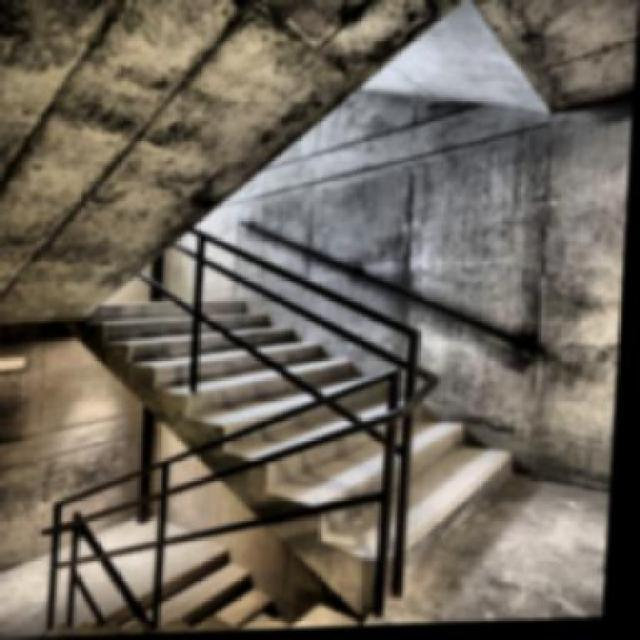stair: (80, 204, 552, 590)
